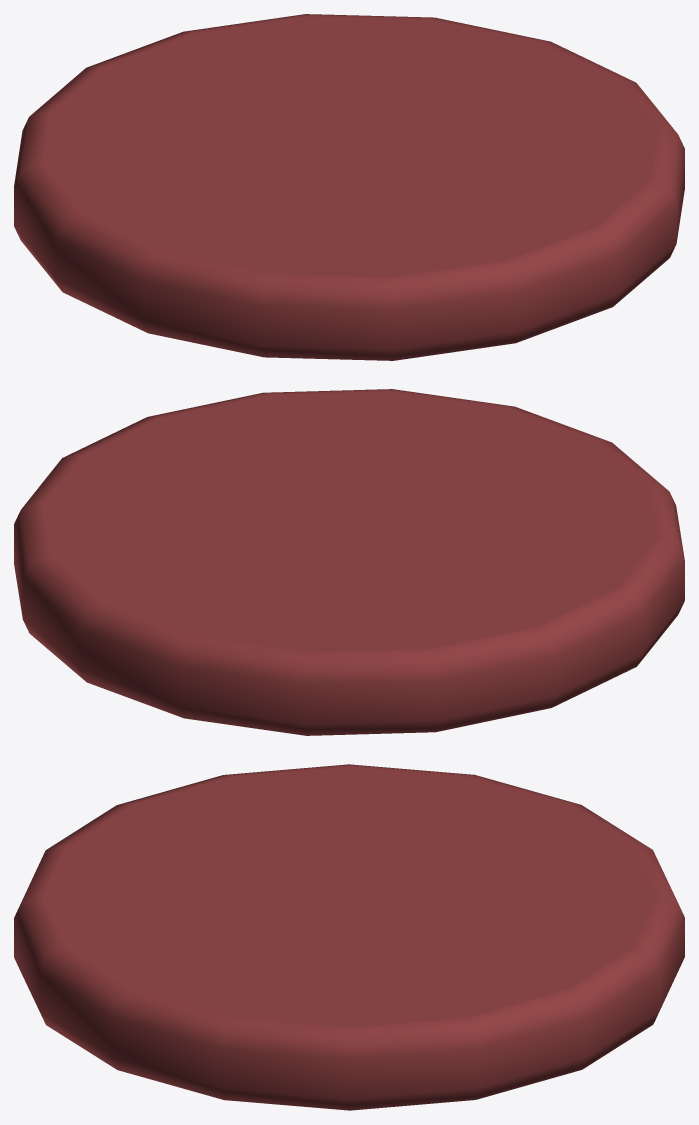
The model's file is Hamburguesa.fbx.
The picture shows the model from 3 angles, top to bottom: view 1: azimuth 30°, elevation 25°; view 2: azimuth 150°, elevation 25°; view 3: azimuth 270°, elevation 25°; orthographic projection.
Parts seen in each view (by area): view 1: Hamburguesa; view 2: Hamburguesa; view 3: Hamburguesa.
Boxes of the visible parts, left/top/right/bottom form: Hamburguesa: left=14, top=14, right=684, bottom=360; Hamburguesa: left=14, top=389, right=684, bottom=735; Hamburguesa: left=14, top=764, right=684, bottom=1110.
Bounding box in the file's own units: 9.39 × 1.24 × 9.39.
